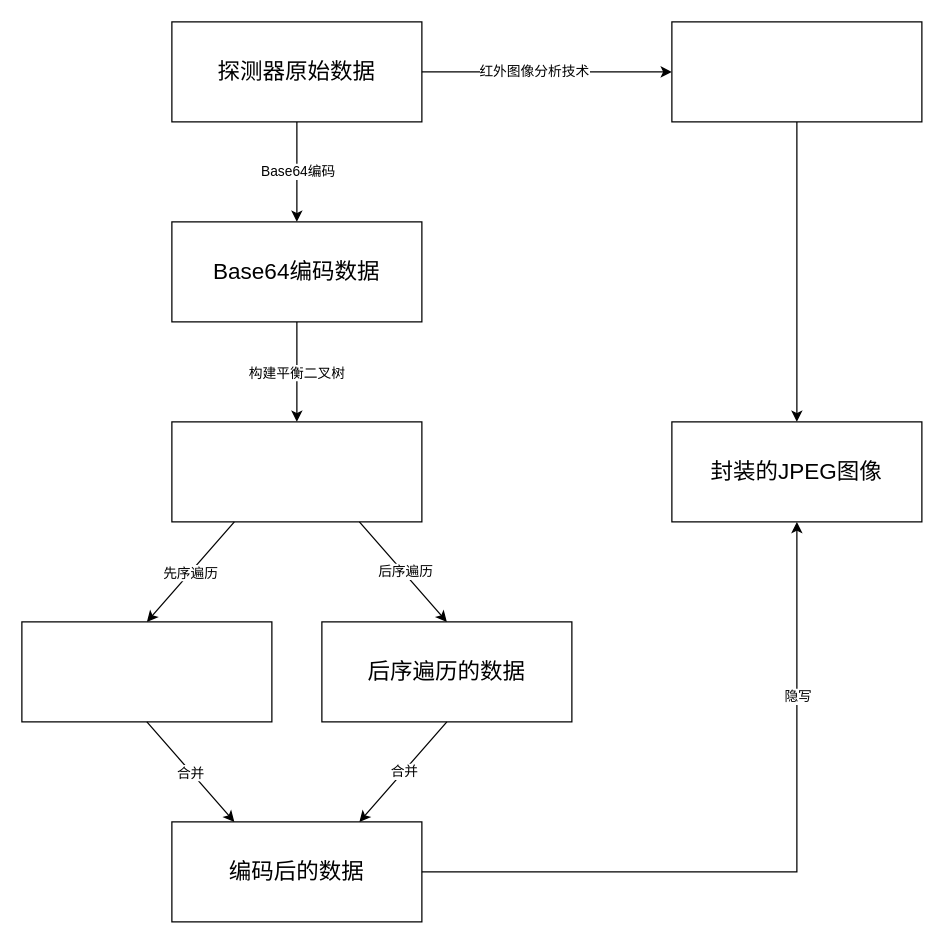
Image size: 944x944. Some labels were removed from this diagram. Here are the shapes that lost their labels. From the top down, the box of each, then its label:
(671, 21, 922, 122): JPEG图像
(171, 421, 422, 522): 二叉树结构化的数据
(21, 621, 272, 722): 先序遍历的数据
